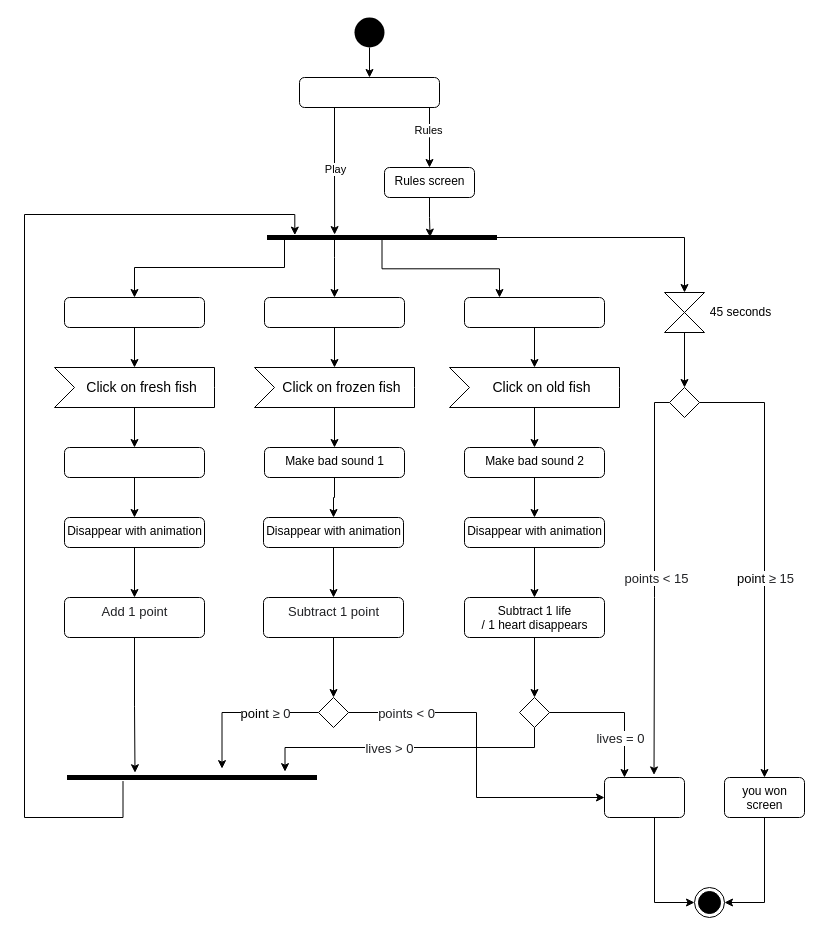
Image size: 822x935. Some labels were removed from this diagram. The shapes that lost their labels are listed below. From the top down, each one's centre as x and y in pixels, then its label:
At point 369,92: "Welcome screen".
At point 134,312: "Fresh fishes appear".
At point 334,312: "Frozen fishes appear".
At point 534,312: "Old fishes appear".
At point 134,462: "Make good sound".
At point 644,797: "you lose screen".
